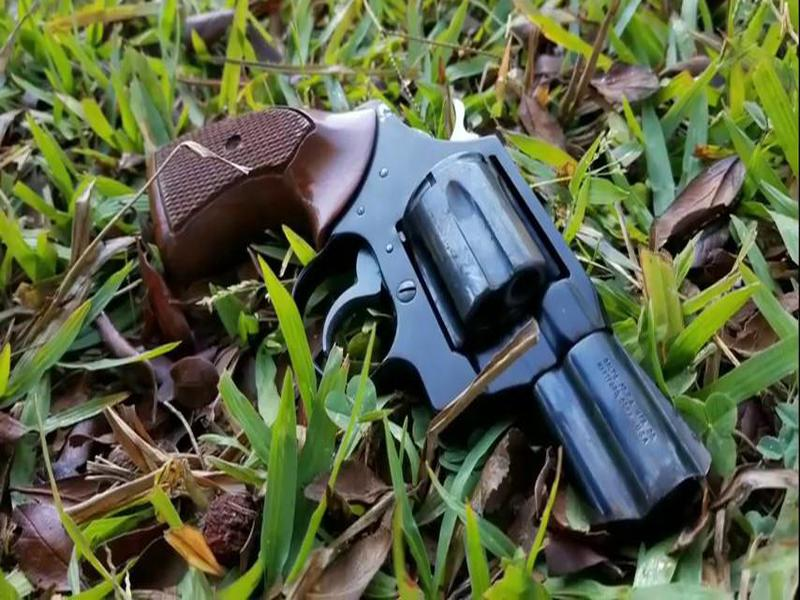Revolver: (95, 99, 747, 540)
